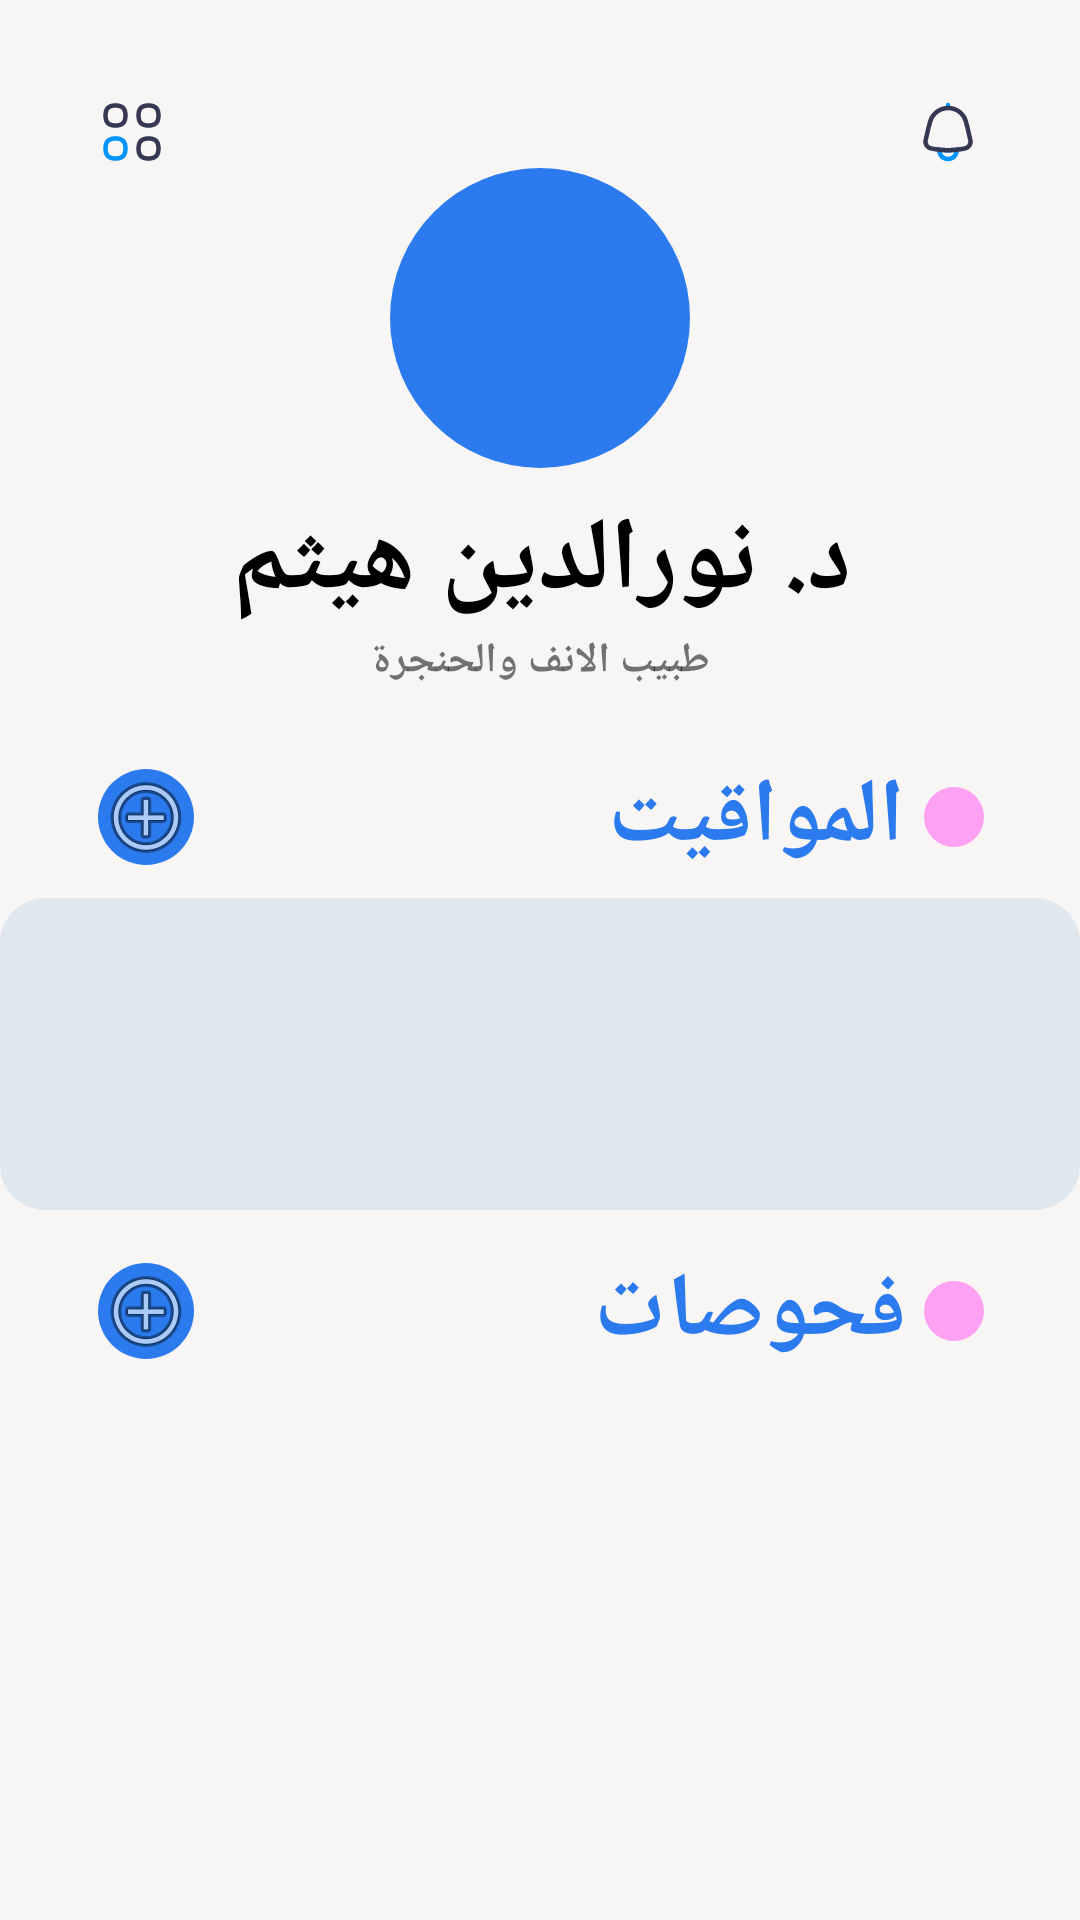

Icon bounding boxes for this 1080x1920 phone screenshot, format detection(x1, y1, x2, y2):
add: detection(98, 769, 194, 865), detection(98, 1263, 194, 1359)
menu: detection(103, 103, 161, 161)
notification: detection(923, 102, 973, 162)
